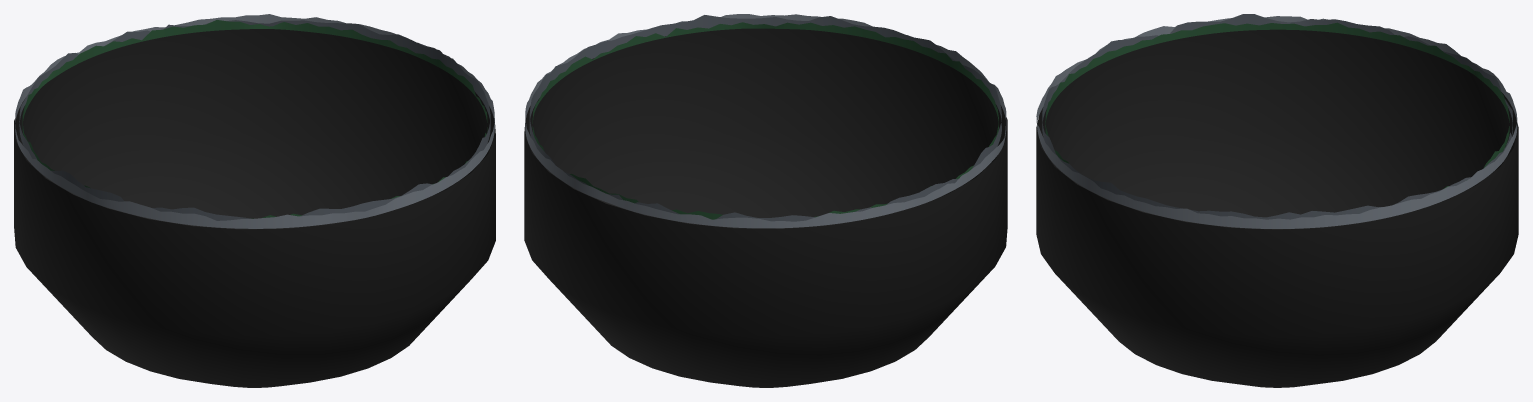
File: LandscapeAround.gltf
3 views of the same model, side by side, from view 1: azimuth 30°, elevation 25°; view 2: azimuth 150°, elevation 25°; view 3: azimuth 270°, elevation 25° (orthographic).
Visible parts, largest first — view 1: Cave_bottom, Mountains; view 2: Cave_bottom, Mountains; view 3: Cave_bottom, Mountains.
Boxes of the visible parts, x1,y1,x2,y2 form: Cave_bottom: (14,29,495,387); Mountains: (15,14,494,228); Cave_bottom: (524,28,1007,387); Mountains: (525,14,1006,228); Cave_bottom: (1036,29,1518,387); Mountains: (1036,14,1517,228).
Size of the model in its own units: 106051 by 58678 by 106051.
